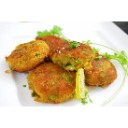cutlet: (33, 65, 75, 105), (52, 38, 94, 69), (5, 39, 46, 70), (84, 52, 117, 85)
